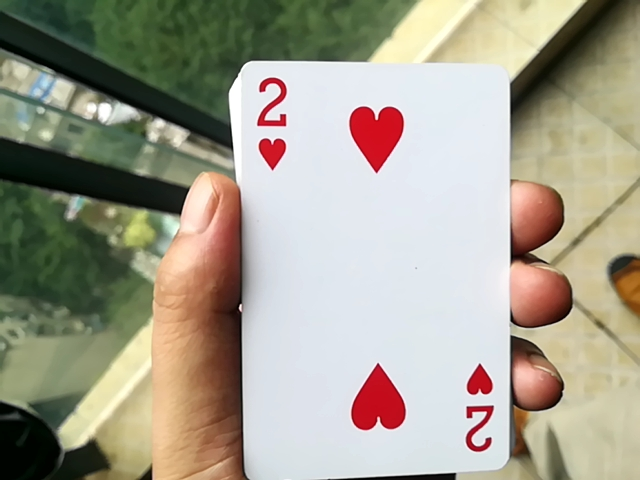hx 2: (213, 56, 510, 477)
